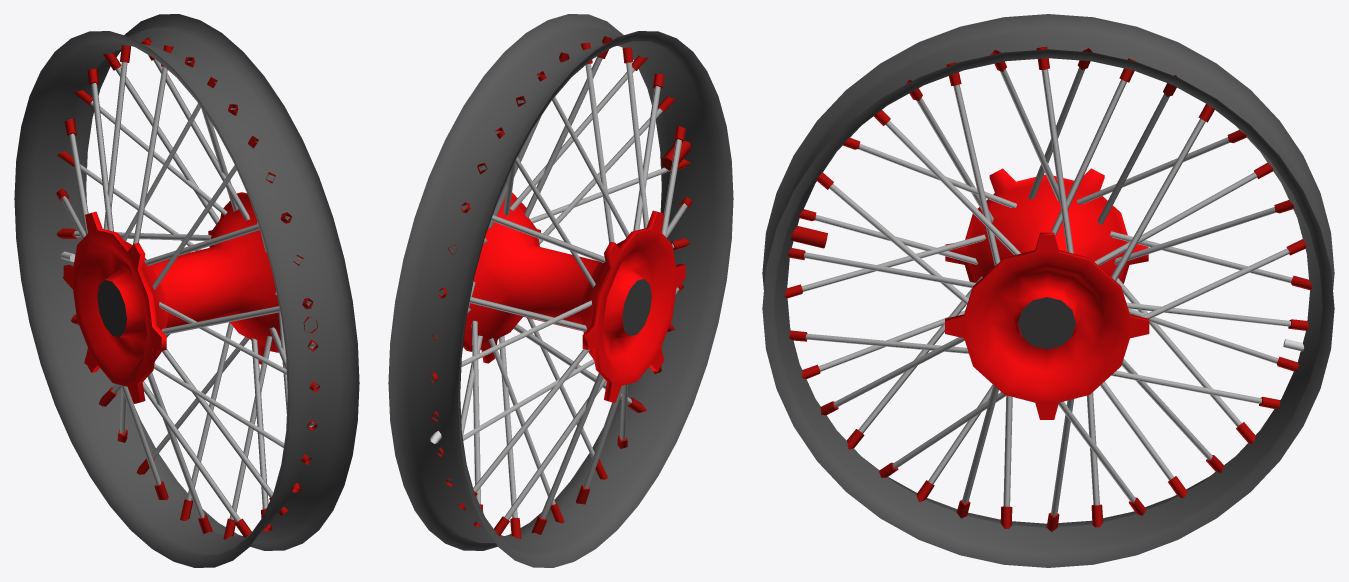
Rendered from RearWheel.glb.
3 views of the same model, side by side, from view 1: azimuth 30°, elevation 25°; view 2: azimuth 150°, elevation 25°; view 3: azimuth 270°, elevation 25° (orthographic). The views are drawn at different scales.
Parts seen in each view (by area): view 1: rear_wheel_rim, rear_wheel_hub, rear_wheel_spokes, rear_wheel_spokes_nipples, rear_wheel_hub_center; view 2: rear_wheel_rim, rear_wheel_hub, rear_wheel_spokes, rear_wheel_spokes_nipples, rear_wheel_hub_center; view 3: rear_wheel_rim, rear_wheel_spokes, rear_wheel_hub, rear_wheel_spokes_nipples, rear_wheel_hub_center.
Boxes of the visible parts, <box> form: rear_wheel_rim: <box>14,14,359,567</box>; rear_wheel_hub: <box>63,192,280,403</box>; rear_wheel_spokes: <box>61,59,315,522</box>; rear_wheel_spokes_nipples: <box>56,37,319,539</box>; rear_wheel_hub_center: <box>97,280,126,337</box>; rear_wheel_rim: <box>388,14,733,567</box>; rear_wheel_hub: <box>463,192,685,402</box>; rear_wheel_spokes: <box>436,57,687,519</box>; rear_wheel_spokes_nipples: <box>431,36,692,538</box>; rear_wheel_hub_center: <box>622,279,651,336</box>; rear_wheel_rim: <box>762,14,1334,567</box>; rear_wheel_spokes: <box>801,67,1292,516</box>; rear_wheel_hub: <box>945,168,1149,419</box>; rear_wheel_spokes_nipples: <box>784,46,1311,531</box>; rear_wheel_hub_center: <box>1018,297,1075,349</box>.
Size of the model in its own units: 0.4998 by 1.58 by 1.58.
